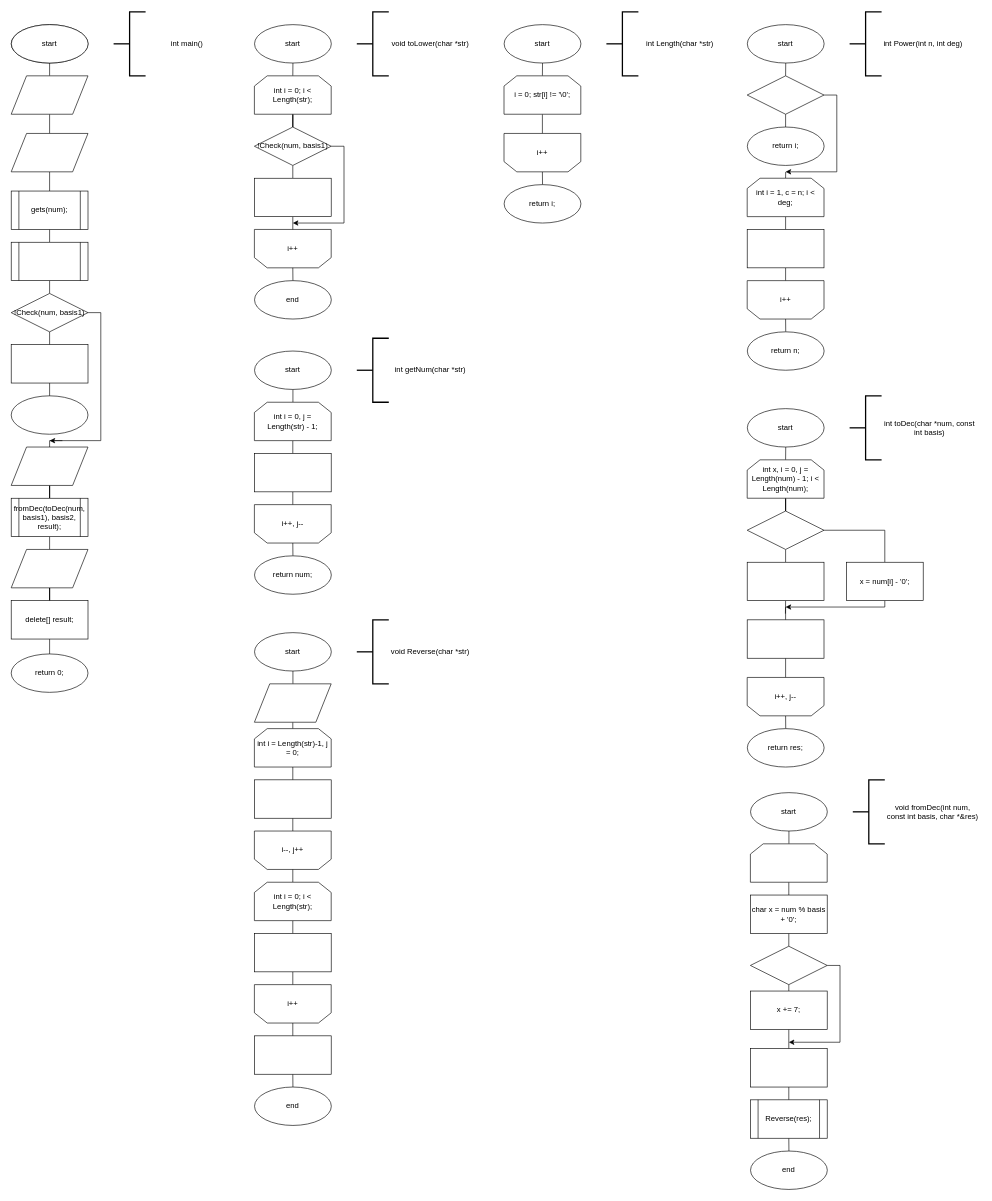
Some shapes in this 992 by 1201 pixel diagram are drawn without their labels. The centre of each missing label's shape, as x and y in pixels:
char *result = new char[100];: point (49, 465)
char *reverse = new char[Length(str)+1];: point (292, 702)
char num[100]{}; const int basis1 = 14; const int basis2 = 3;: point (49, 94)
cout << "Error";: point (49, 363)
cout << "Number : ";: point (49, 152)
cout << result << endl;: point (49, 568)
deg == 0: point (785, 94)
delete[] reverse;: point (292, 1054)
int i = 0; num > 0 ;: point (788, 862)
n *= c;: point (785, 248)
num += (str[i] - '0') * Power(10,j);: point (292, 472)
num[i] > '9': point (785, 529)
res += x*Power(basis, j);: point (785, 638)
res[i] = x; num -= num % basis; num /= basis;: point (788, 1067)
return 1;: point (49, 414)
reverse[j] = str[i];: point (292, 798)
str[i] += 32;: point (292, 197)
str[i] = reverse[i];: point (292, 952)
toLower(num);: point (49, 261)
x = num[i] - 'a'; x += 10;: point (785, 581)
x > '9': point (788, 965)
